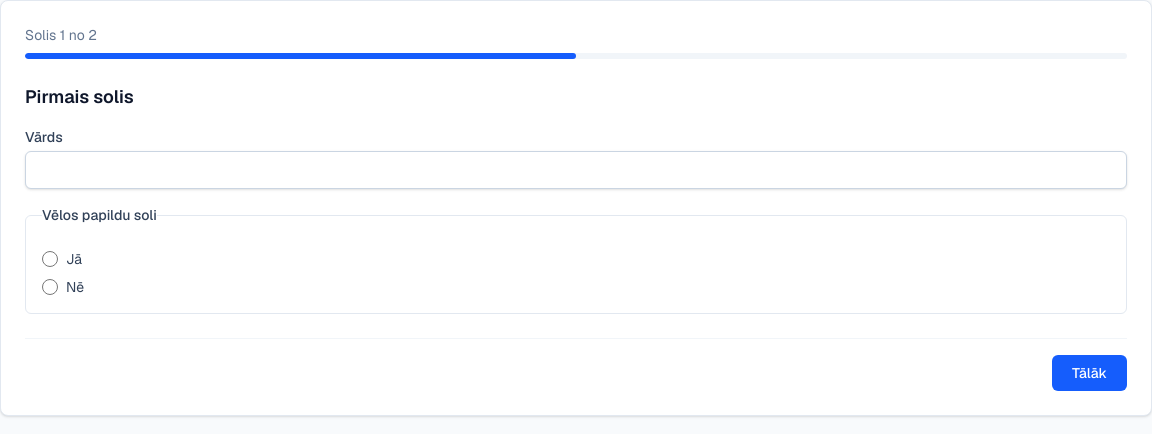
Scenario: Wizard › advances to the next step when 'wantsExtra' is yes
The image size is (1152, 434).
What coordinates should you click on to do the following:
click the radio button labelled "Jā"
I would click on:
 (50, 259)
Its box is left=42, top=251, right=58, bottom=267.
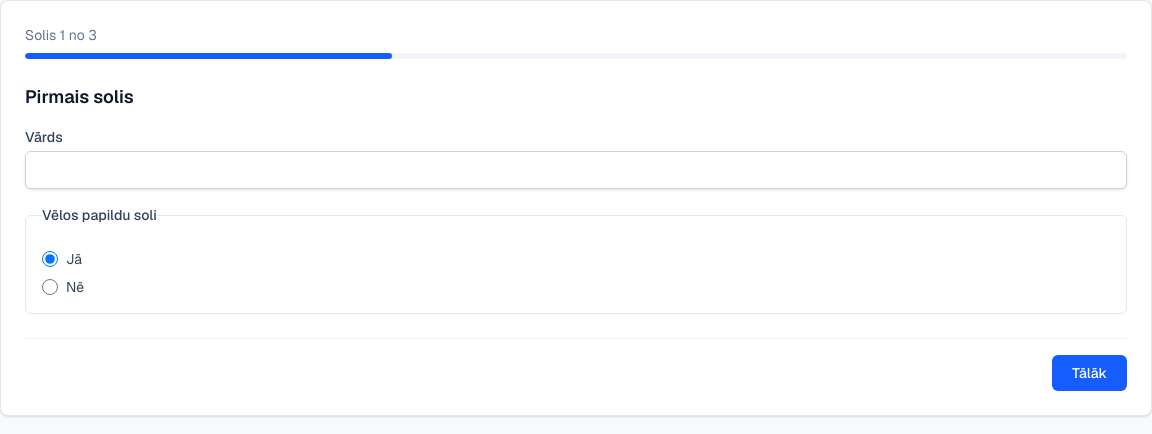
What coordinates should you click on to do the following:
click the button "Tālāk"
I would click on:
 (1090, 373)
Its box is left=1052, top=355, right=1127, bottom=391.
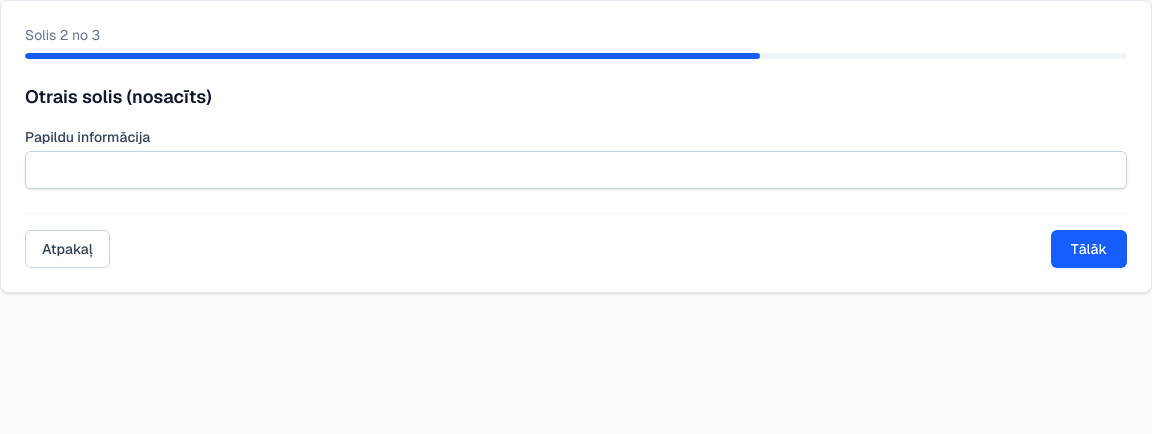
Expected: the heading "Otrais solis (nosacīts)" is shown, left=25, top=85, right=212, bottom=108
